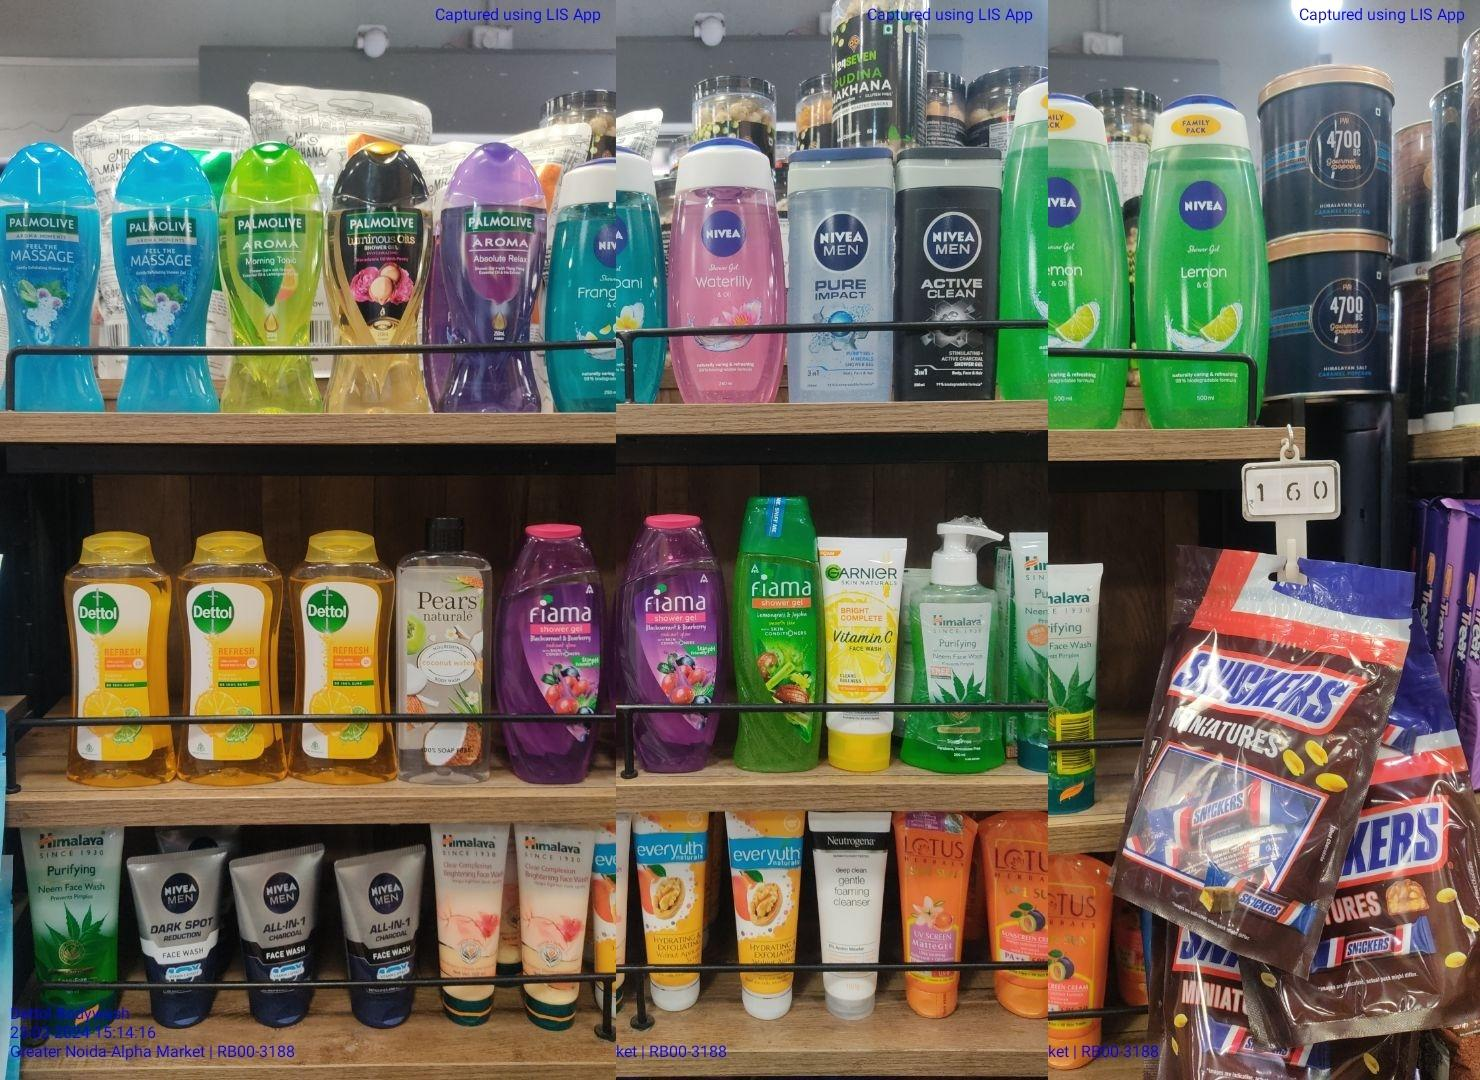Dettol_Bodywash_Refresh: (177, 537, 290, 787), (63, 533, 175, 781), (292, 537, 399, 787)
Fiama_Shower_Gel_Lemongrass_and_Jojoba_250ML: (733, 496, 825, 772)
Nivea_Shower_Gel_Lemon_and_Oil_250ML: (1136, 101, 1263, 422)
Nivea_Shower_Gel_Waterlily_and_Oil_250ML: (673, 147, 781, 402)
Palmolive_Aroma_Moments_Feel_The_Massage_Shower_Gel_250ML: (111, 148, 218, 411), (0, 145, 101, 411)
Palmolive_Aroma_Morning_Tonic_Shower_Gel_250ML: (222, 151, 319, 411)
Palmolive_Aroma_Relax_250ML: (441, 148, 540, 410)
Palmolive_Luminous_Oils_Invigorating_Macadamia_Oil_With_Peony_250ML: (330, 148, 433, 414)
